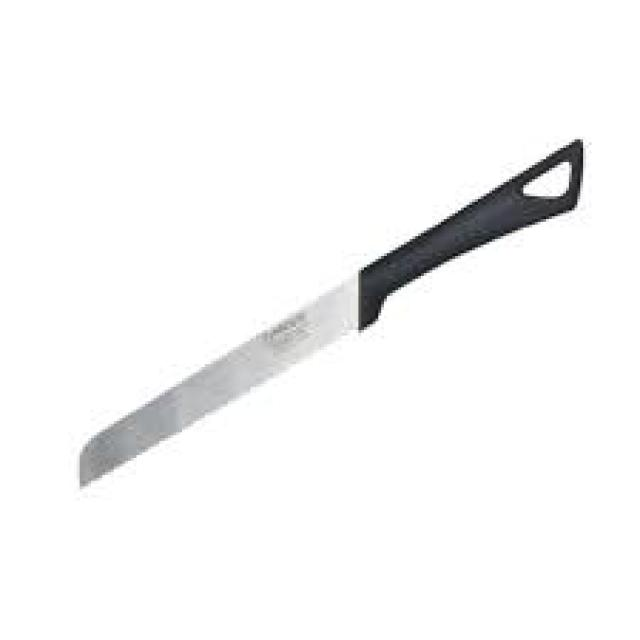Knife: (80, 142, 583, 486)
